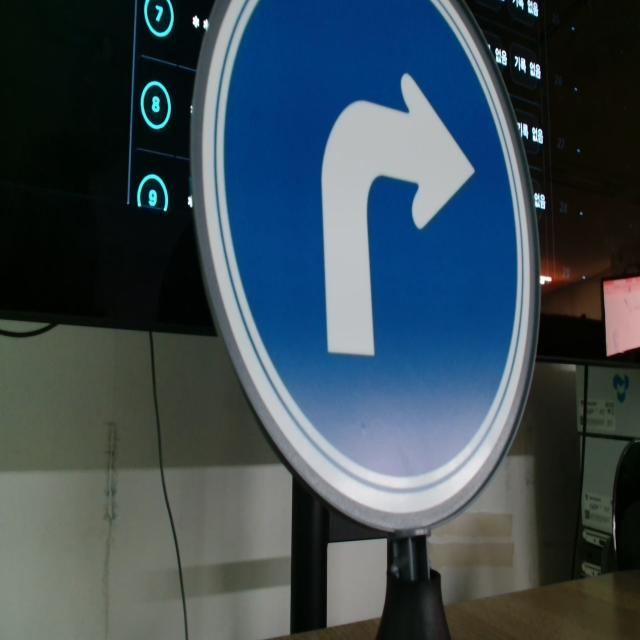right_dierection: (191, 3, 544, 526)
